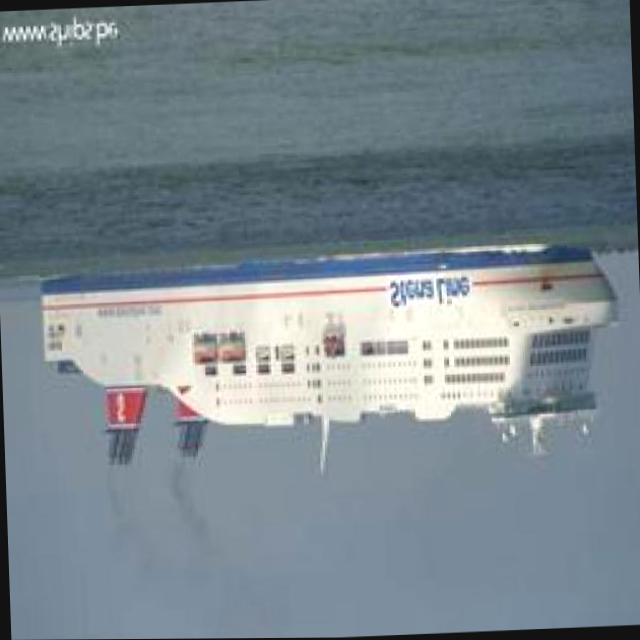ship2: (38, 244, 618, 479)
